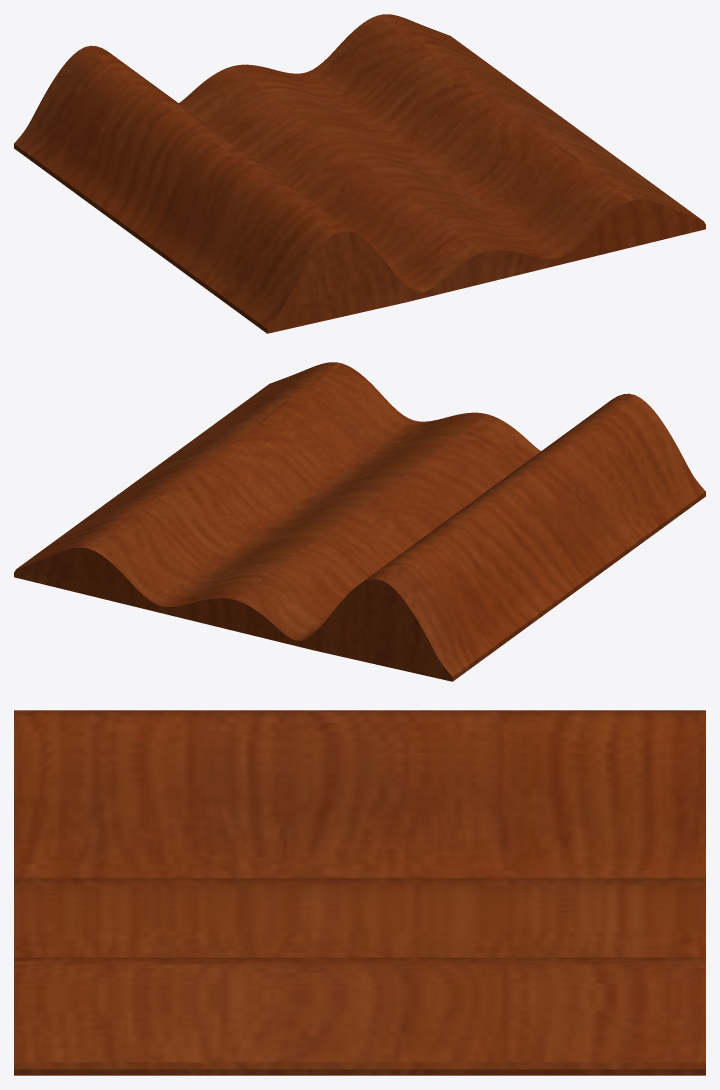
Rendered from WaveSpline.glb.
The picture shows the model from 3 angles, top to bottom: view 1: azimuth 30°, elevation 25°; view 2: azimuth 150°, elevation 25°; view 3: azimuth 270°, elevation 25°; orthographic projection. The views are drawn at different scales.
Parts seen in each view (by area): view 1: 1041; view 2: 1041; view 3: 1041.
Part boxes in pixels (left/top/right/bottom): 1041: left=14, top=14, right=705, bottom=333; 1041: left=14, top=362, right=705, bottom=681; 1041: left=14, top=710, right=705, bottom=1075.
Bounding box in the file's own units: 1.21 × 0.2286 × 1.21.
Materials: 103 (103 with a texture image).
